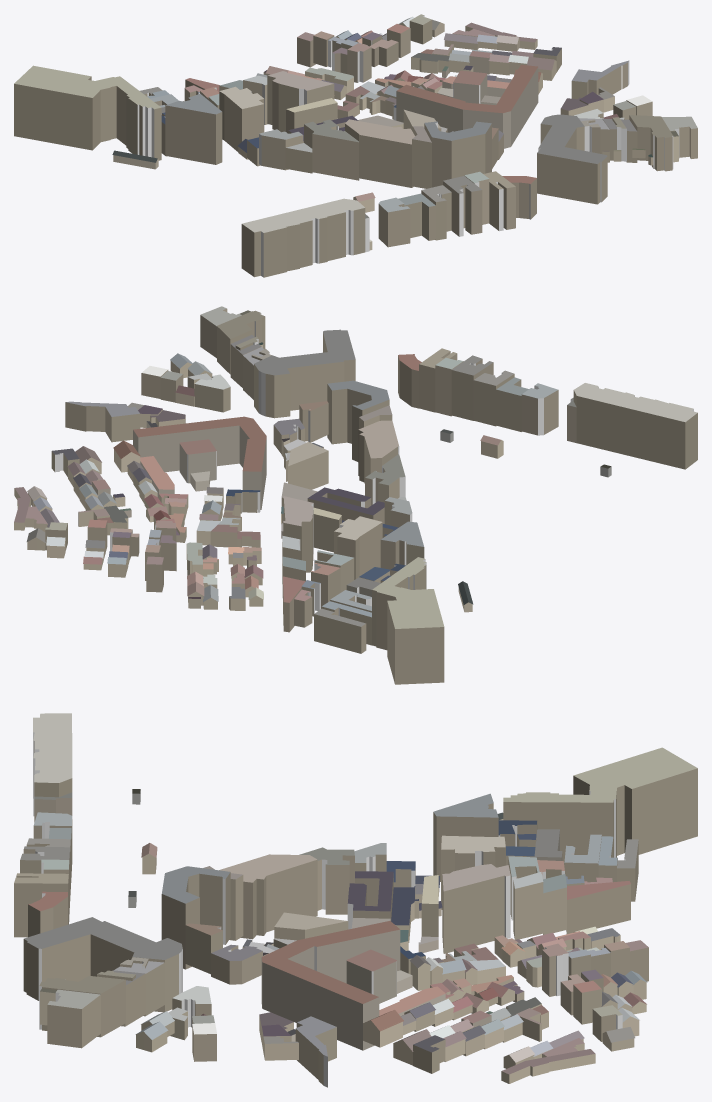
The picture shows the model from 3 angles, top to bottom: view 1: azimuth 30°, elevation 25°; view 2: azimuth 150°, elevation 25°; view 3: azimuth 270°, elevation 25°; orthographic projection. The views are drawn at different scales.
Visible parts, largest first — view 1: tuile; view 2: tuile; view 3: tuile.
Part boxes in pixels (x1=…): tuile: x1=14, y1=14, x2=697, y2=277; tuile: x1=14, y1=306, x2=697, y2=684; tuile: x1=14, y1=713, x2=697, y2=1087.
Bounding box in the file's own units: 297 × 46.76 × 279.
